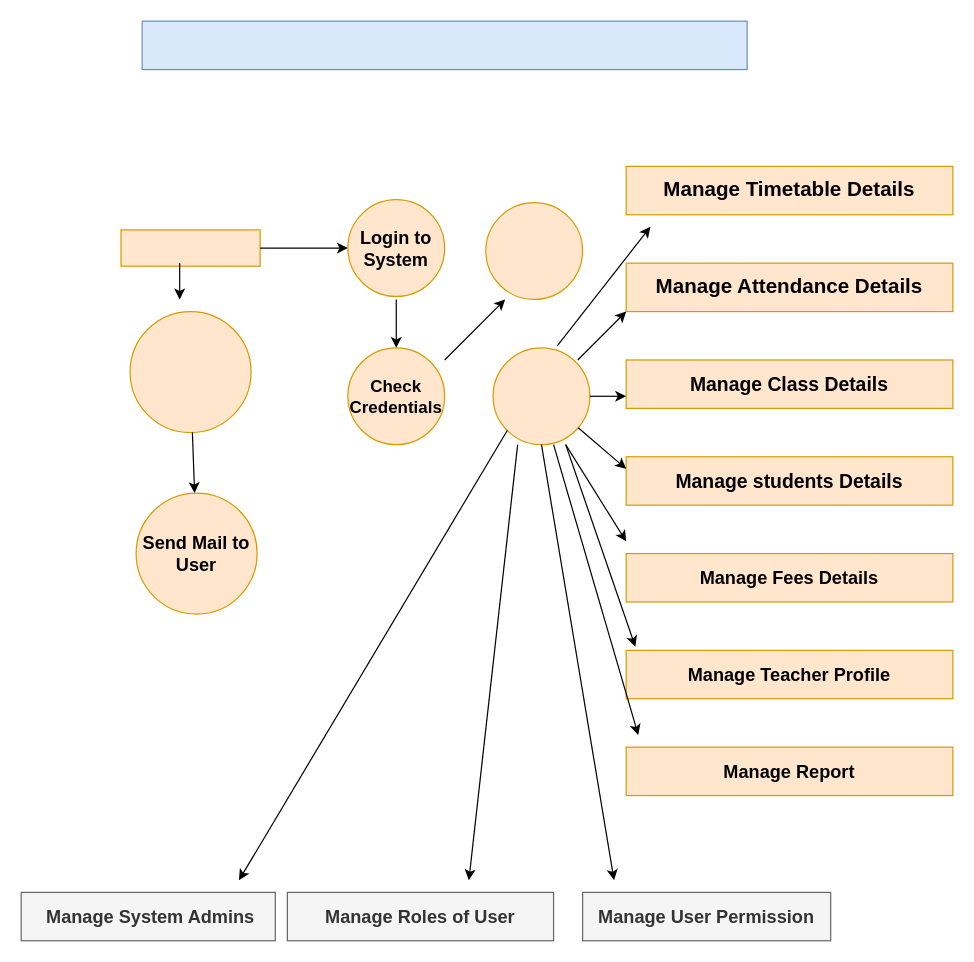
Some shapes in this 974 by 962 pixel diagram are drawn without their labels. Here are the shapes that lost their labels. From the top down, the centre of each, then its label:
At (444,45): "Student Information System".
At (190,247): "Admin".
At (534,250): "Check Roles of Access".
At (190,371): "Forget Password".
At (541,396): "Manage Modules".
